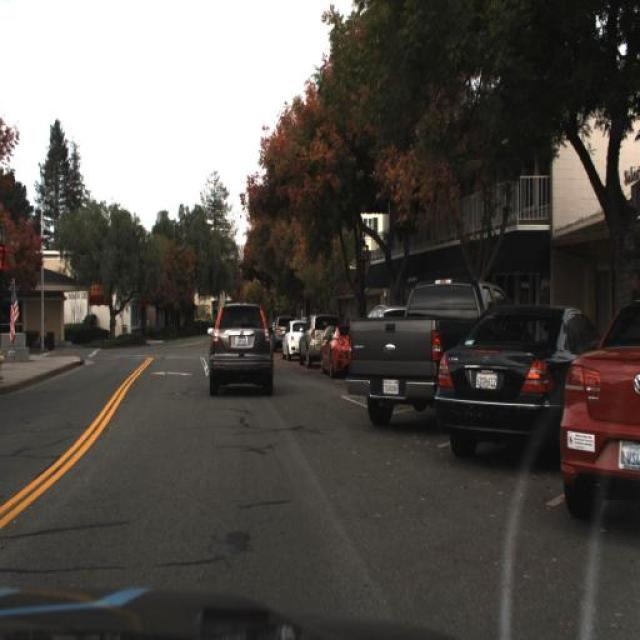car: (433, 285, 578, 473), (560, 297, 640, 524), (343, 266, 452, 432), (200, 296, 280, 402), (314, 320, 355, 381), (296, 310, 330, 368), (280, 313, 301, 367)
